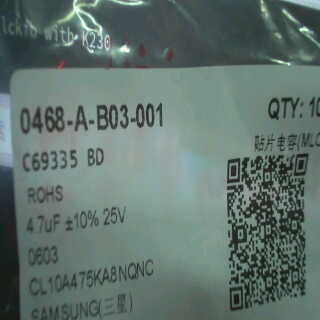4.7uF: (24, 210, 62, 241)
